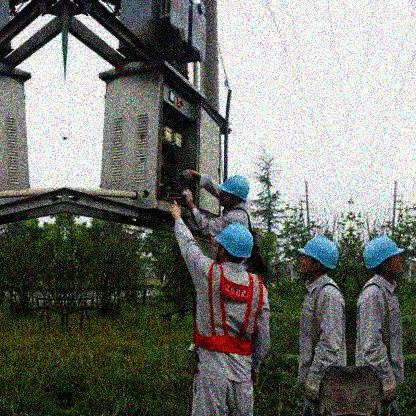helmet: (295, 236, 339, 283), (212, 222, 255, 270), (362, 238, 405, 285), (216, 174, 248, 210)
